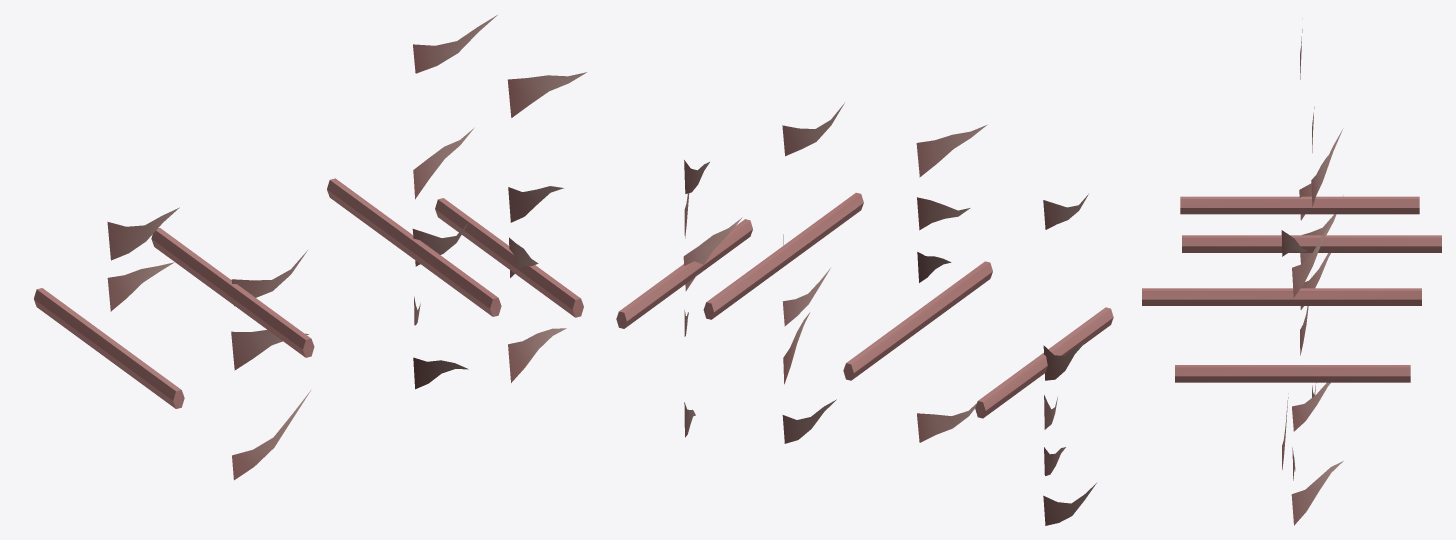
File: mesh-plant-047-ladderweed_LOD1.glb
3 renders of one model, left to right at view 1: azimuth 30°, elevation 25°; view 2: azimuth 150°, elevation 25°; view 3: azimuth 270°, elevation 25°, orthographic. The views are drawn at different scales.
Parts seen in each view (by area): view 1: geometry_0; view 2: geometry_0; view 3: geometry_0.
Boxes of the visible parts, <box> form: geometry_0: <box>34,15,586,480</box>; geometry_0: <box>616,103,1113,525</box>; geometry_0: <box>1142,18,1441,525</box>.
Bounding box in the file's own units: 1.82 × 1.49 × 1.05.
